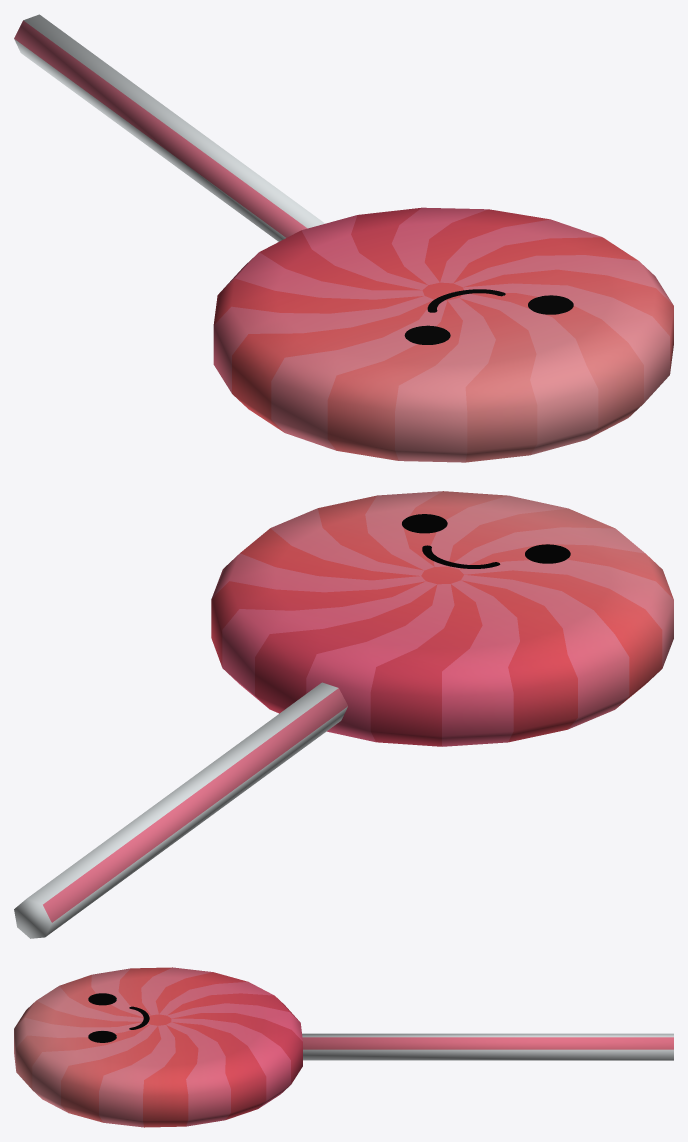
Rendered from lollipop_smile.fbx.
3 renders of one model, top to bottom at view 1: azimuth 30°, elevation 25°; view 2: azimuth 150°, elevation 25°; view 3: azimuth 270°, elevation 25°, orthographic. The views are drawn at different scales.
Parts seen in each view (by area): view 1: lollipop_smile; view 2: lollipop_smile; view 3: lollipop_smile.
Part boxes in pixels (<box>): lollipop_smile: <box>14,14,673,462</box>; lollipop_smile: <box>14,491,673,938</box>; lollipop_smile: <box>14,967,673,1127</box>.
Size of the model in its own units: 66.03 by 14.4 by 151.
2 materials, 2 textured.
